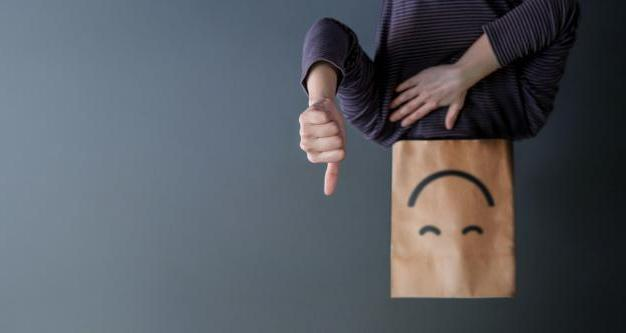thumbsdown: (298, 108, 347, 196)
